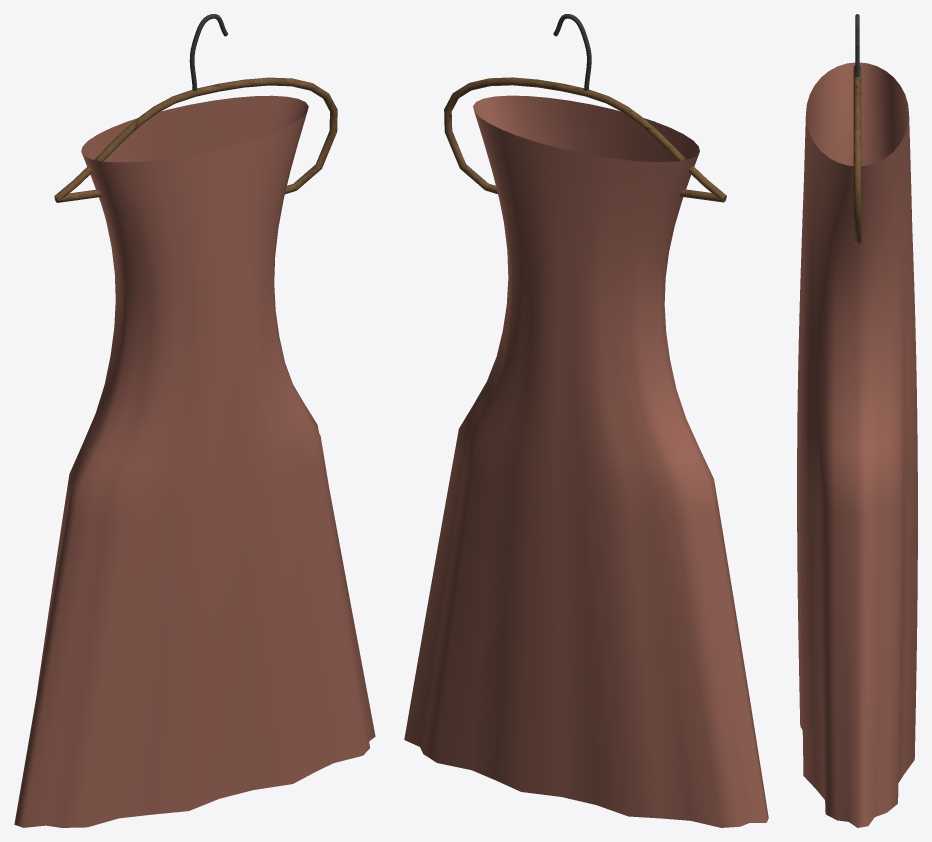
The model's file is sku_v23_pleated_dress.glb.
The picture shows the model from 3 angles, left to right: view 1: azimuth 30°, elevation 25°; view 2: azimuth 150°, elevation 25°; view 3: azimuth 270°, elevation 25°; orthographic projection. The views are drawn at different scales.
Parts seen in each view (by area): view 1: sku_v23_pleated_dress_Woven_3, sku_v23_pleated_dress_CC0_Oak_veneer; view 2: sku_v23_pleated_dress_Woven_3, sku_v23_pleated_dress_CC0_Oak_veneer; view 3: sku_v23_pleated_dress_Woven_3, sku_v23_pleated_dress_CC0_Oak_veneer, sku_v23_pleated_dress_Anodised_graphite.
Boxes of the visible parts, x1,y1,x2,y2 form: sku_v23_pleated_dress_Woven_3: (14, 95, 375, 827); sku_v23_pleated_dress_CC0_Oak_veneer: (54, 77, 337, 202); sku_v23_pleated_dress_Woven_3: (404, 95, 768, 827); sku_v23_pleated_dress_CC0_Oak_veneer: (444, 77, 726, 202); sku_v23_pleated_dress_Woven_3: (797, 62, 917, 827); sku_v23_pleated_dress_CC0_Oak_veneer: (853, 65, 861, 244); sku_v23_pleated_dress_Anodised_graphite: (855, 14, 859, 76).
Bounding box in the file's own units: 0.5222 × 1.05 × 0.157.
Materials: 3 (1 with a texture image).
